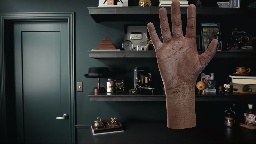Mano_aperta: (145, 0, 219, 90)
